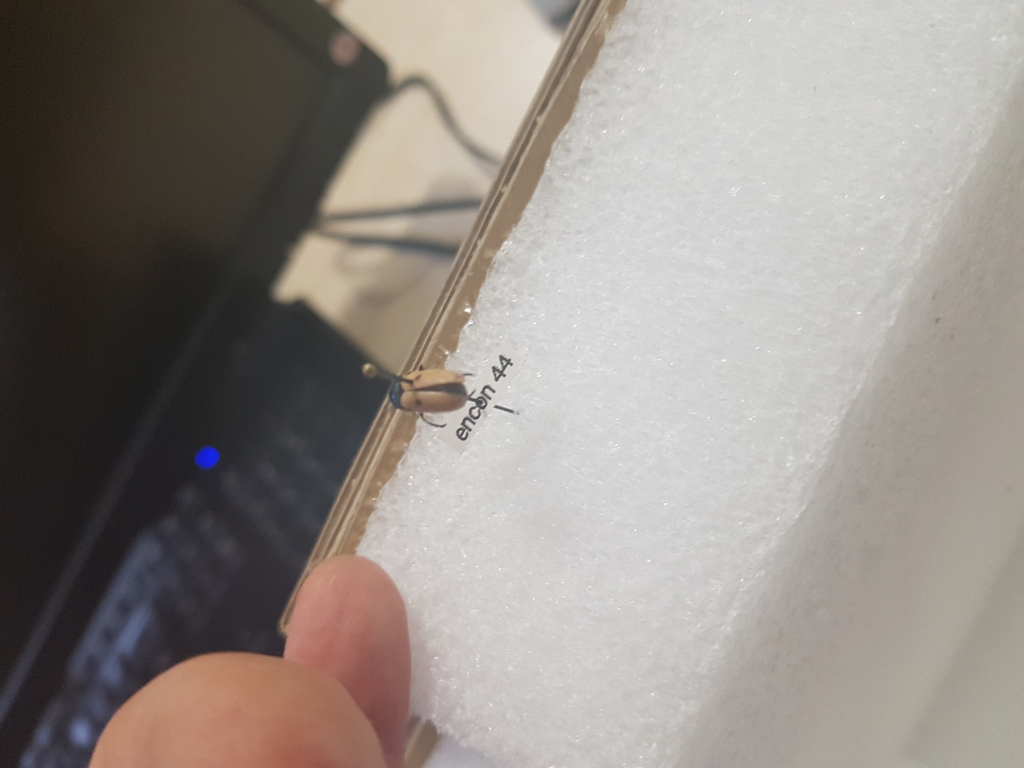Labidostomis_maculipennis: (381, 370, 480, 436)
